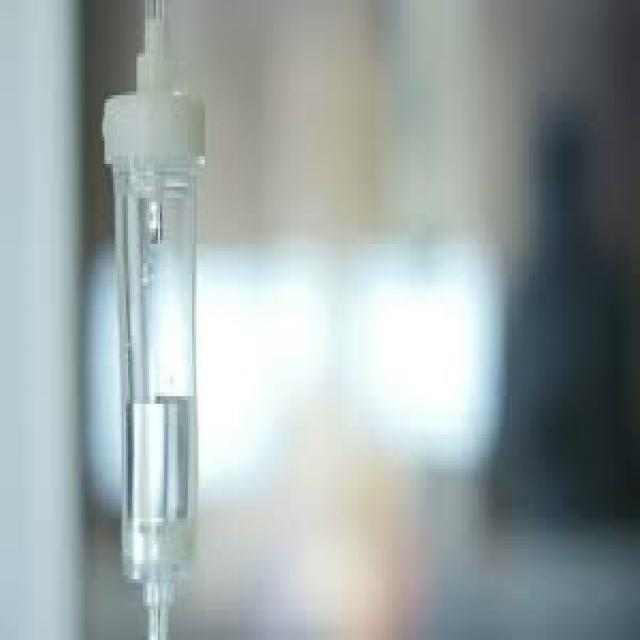iv_fluids: (70, 63, 248, 613)
